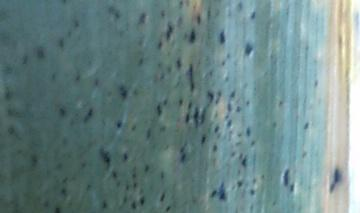tarspot: (327, 163, 343, 195), (97, 147, 112, 170), (186, 63, 197, 93), (105, 4, 123, 21), (184, 27, 197, 47), (280, 168, 291, 190), (115, 84, 128, 102), (83, 105, 94, 126), (219, 180, 229, 203), (32, 47, 47, 61), (238, 153, 251, 169), (165, 20, 174, 43), (136, 12, 148, 29), (27, 152, 39, 169), (243, 41, 254, 59), (197, 108, 210, 123), (57, 185, 69, 200), (119, 194, 134, 206), (72, 71, 85, 84), (203, 90, 215, 104), (143, 126, 153, 142), (269, 119, 282, 131), (247, 186, 258, 200), (136, 55, 147, 69), (55, 35, 64, 52), (119, 150, 131, 162), (218, 28, 226, 46), (49, 204, 65, 213), (275, 97, 287, 109), (157, 190, 168, 203), (57, 105, 68, 118), (141, 163, 152, 176), (157, 168, 168, 181), (59, 175, 72, 186), (302, 120, 312, 134), (114, 116, 123, 131), (155, 103, 164, 118), (310, 79, 325, 88), (90, 76, 101, 88), (162, 202, 174, 213), (193, 15, 204, 27), (158, 122, 169, 134), (84, 182, 96, 193), (99, 197, 109, 210), (127, 123, 140, 133), (130, 199, 140, 212), (246, 175, 259, 185), (175, 56, 184, 70), (248, 11, 259, 22), (211, 123, 222, 134), (157, 9, 168, 20), (183, 112, 193, 124), (156, 38, 164, 53), (234, 178, 244, 190), (71, 19, 83, 29), (209, 187, 218, 200), (243, 125, 252, 138), (179, 151, 187, 165), (210, 143, 220, 154), (234, 104, 243, 116), (175, 96, 184, 108), (131, 180, 140, 192), (77, 160, 89, 169), (200, 134, 208, 147), (139, 195, 148, 206), (186, 99, 194, 111), (219, 58, 227, 70), (227, 90, 236, 100), (14, 147, 24, 156), (224, 118, 232, 129), (111, 170, 118, 180), (123, 183, 130, 193), (176, 1, 184, 9)
